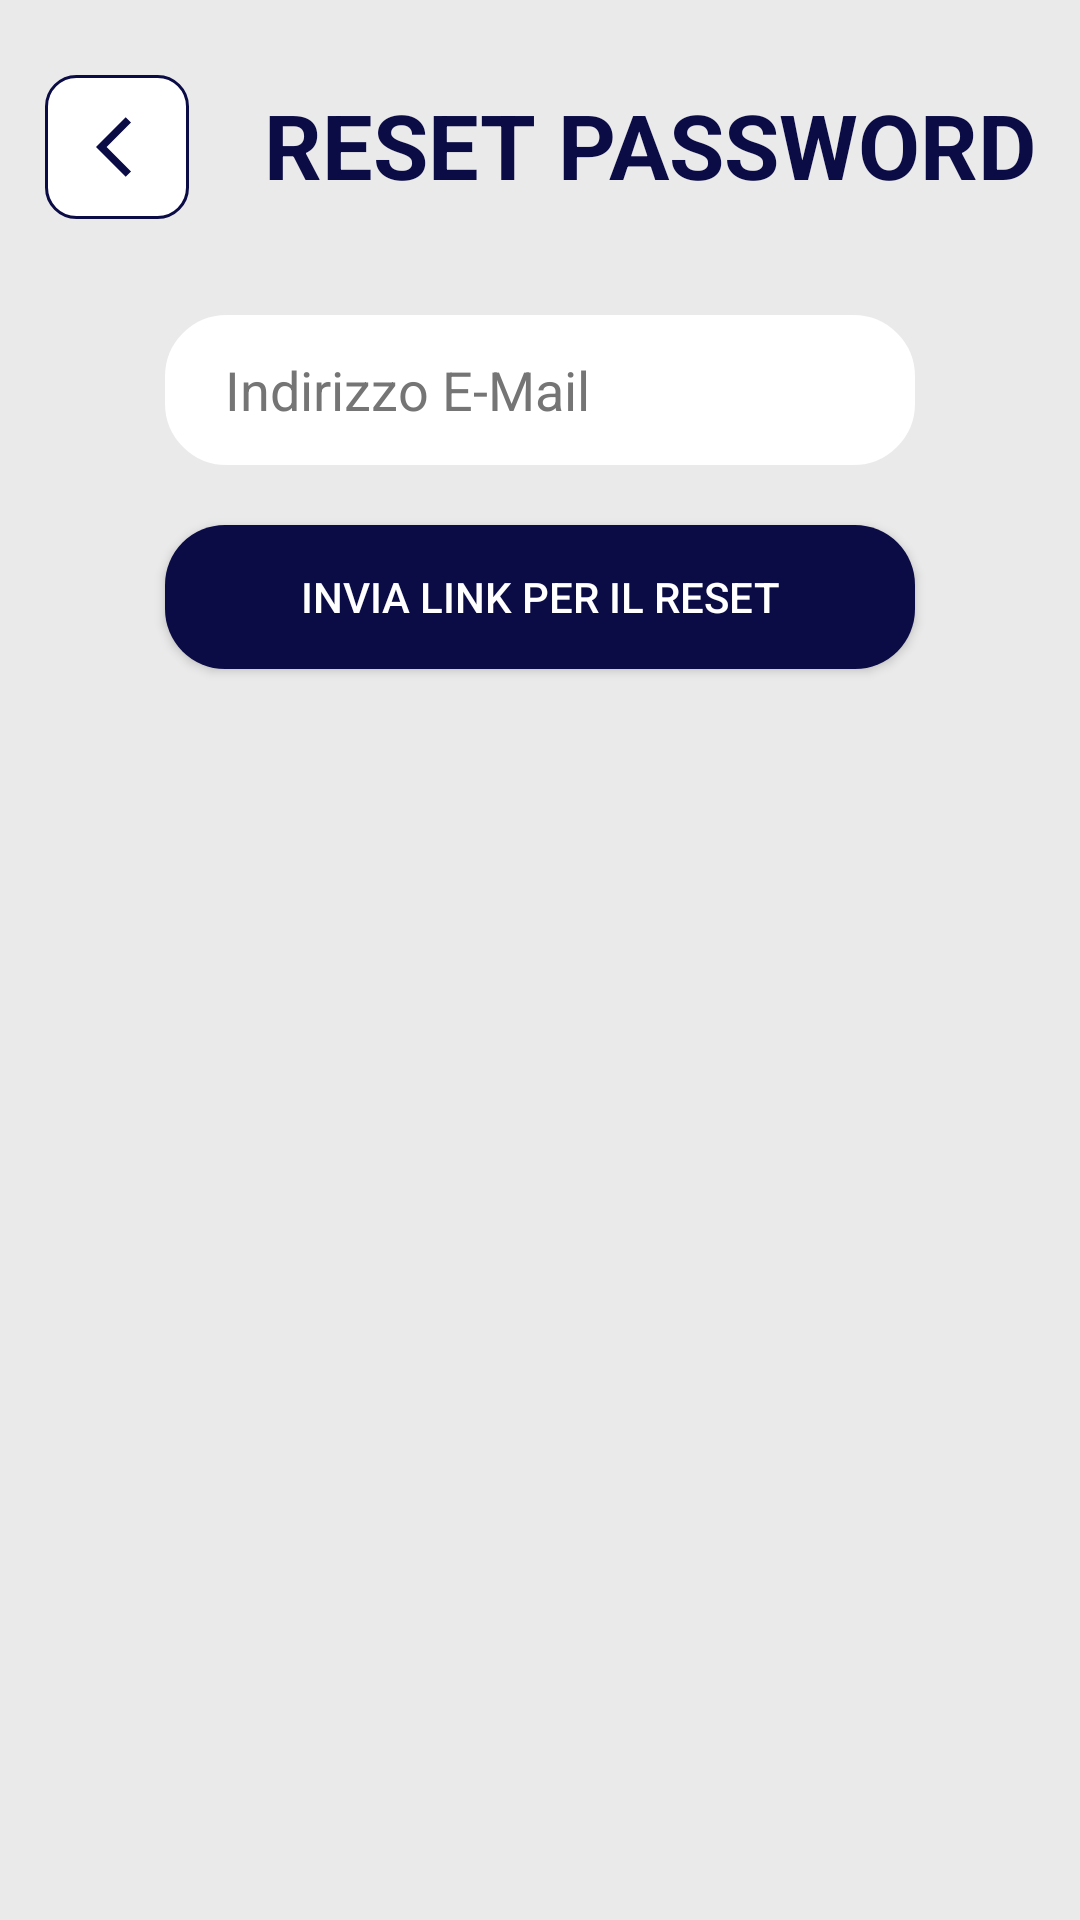

Locate icon controls on the screen. Image size 1080px x 1920px, boxes as [x1,y1,x2,y2].
Indietro: [45,75,189,219]
